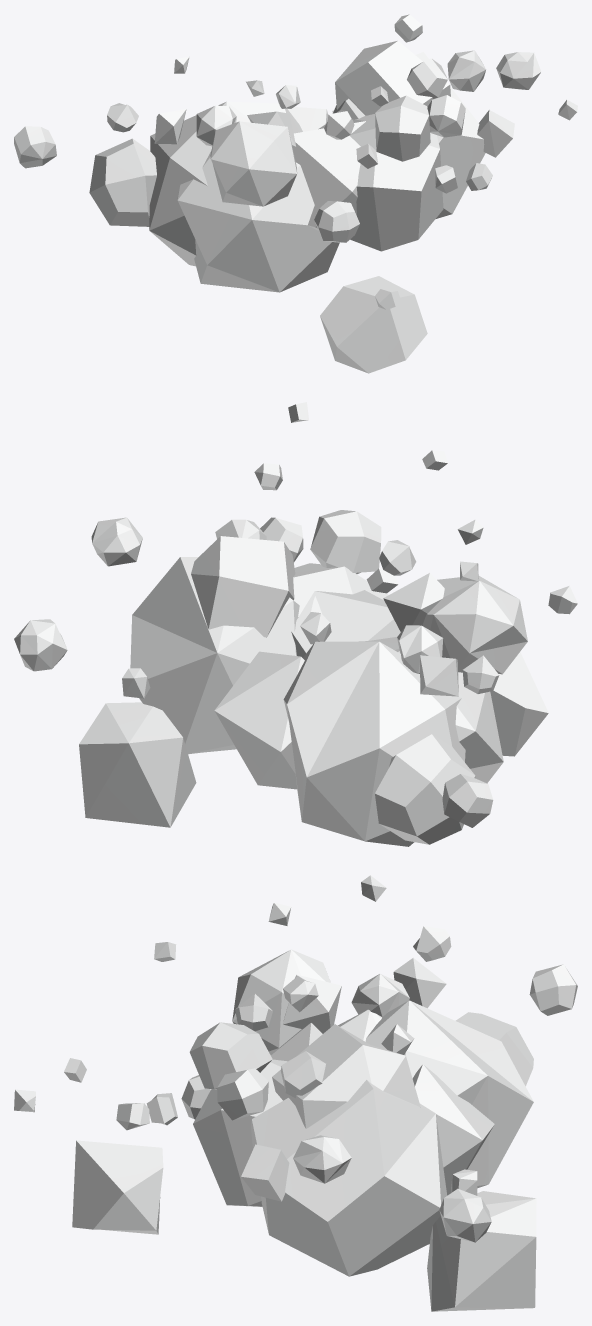
File: SM_Env_Ocean_Waves_01_Splash_02.fbx
The picture shows the model from 3 angles, top to bottom: view 1: azimuth 30°, elevation 25°; view 2: azimuth 150°, elevation 25°; view 3: azimuth 270°, elevation 25°; orthographic projection. The views are drawn at different scales.
Parts seen in each view (by area): view 1: SM_Env_Ocean_Waves_01_Splash_02; view 2: SM_Env_Ocean_Waves_01_Splash_02; view 3: SM_Env_Ocean_Waves_01_Splash_02.
Boxes of the visible parts, x1=… form: SM_Env_Ocean_Waves_01_Splash_02: x1=14, y1=14, x2=577, y2=373; SM_Env_Ocean_Waves_01_Splash_02: x1=14, y1=402, x2=577, y2=846; SM_Env_Ocean_Waves_01_Splash_02: x1=14, y1=875, x2=577, y2=1311.
Bounding box in the file's own units: 47.68 × 27.62 × 44.4.
